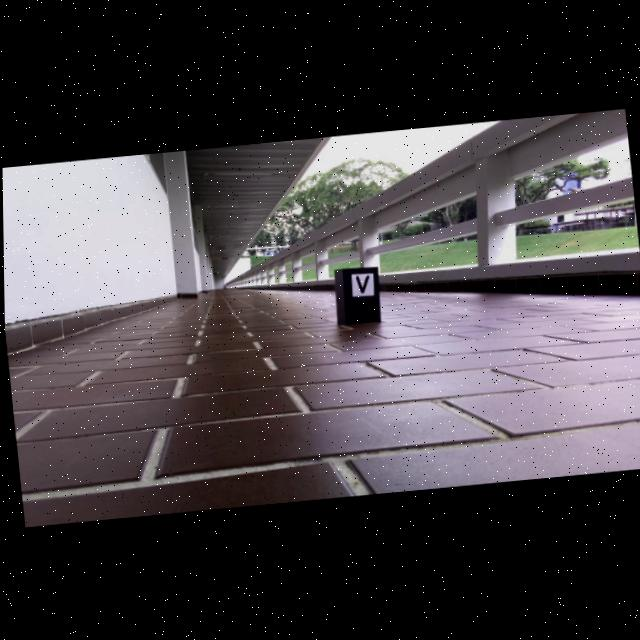V: (354, 276, 368, 294)
